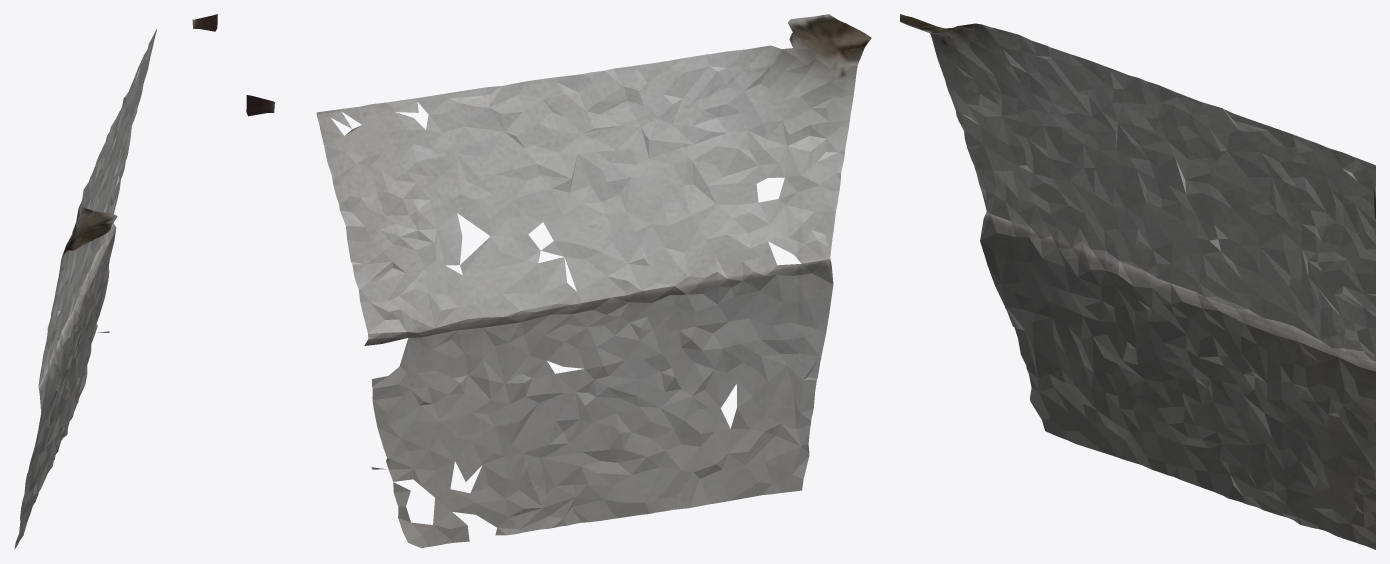
3 views of the same model, side by side, from view 1: azimuth 30°, elevation 25°; view 2: azimuth 150°, elevation 25°; view 3: azimuth 270°, elevation 25° (orthographic). The views are drawn at different scales.
Bounding box in the file's own units: 0.8373 × 0.8374 × 0.8374.
Materials: 3 (3 with a texture image).
